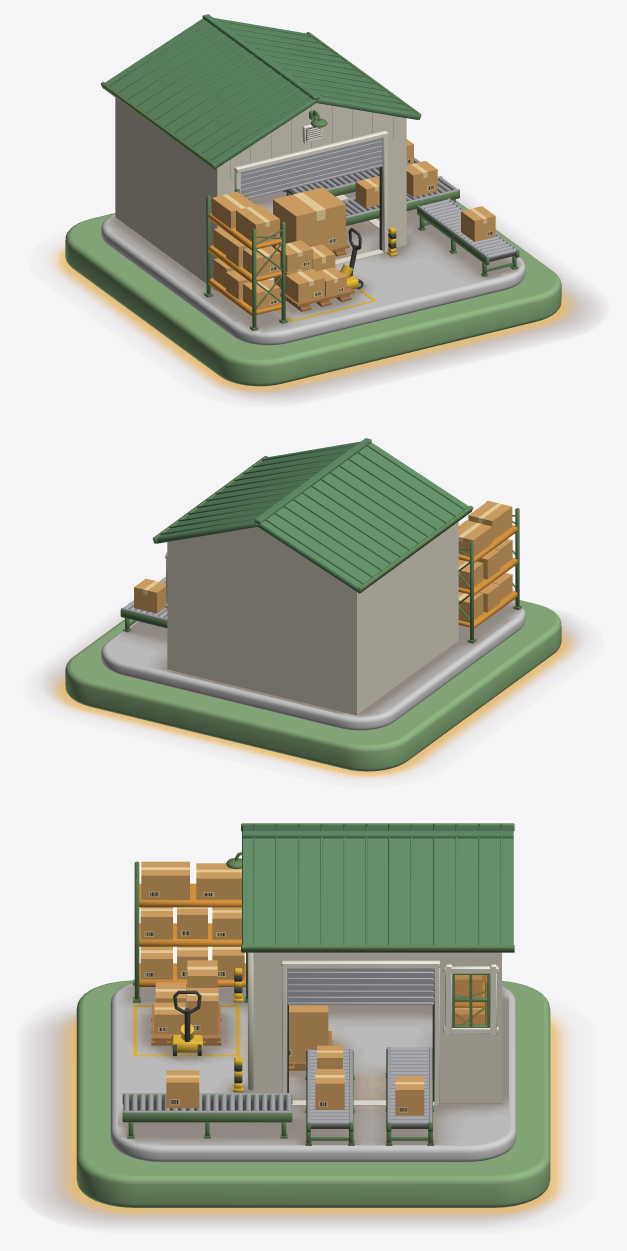
Rendered from warehouse.glb.
3 views of the same model, one above another, from view 1: azimuth 30°, elevation 25°; view 2: azimuth 150°, elevation 25°; view 3: azimuth 270°, elevation 25° (orthographic). The views are drawn at different scales.
Visible parts, largest first — view 1: Warehouse_Static, Plinth_Outer, Plinth_Inner, Fx_ContactShadow, Fx_AmbientOcclusion, Fx_FloorGlow, Conveyor_Box_1, Conveyor_Box_2; view 2: Warehouse_Static, Plinth_Outer, Plinth_Inner, Fx_FloorGlow, Fx_AmbientOcclusion, Fx_ContactShadow, Conveyor_Box_3; view 3: Warehouse_Static, Plinth_Inner, Plinth_Outer, Fx_ContactShadow, Fx_AmbientOcclusion, Fx_FloorGlow, Conveyor_Box_1, Conveyor_Box_2, Conveyor_Box_3.
Boxes of the visible parts, bbox=[...] form: Warehouse_Static: bbox=[101, 14, 519, 330]; Plinth_Outer: bbox=[65, 200, 561, 386]; Plinth_Inner: bbox=[101, 191, 525, 345]; Fx_ContactShadow: bbox=[74, 199, 598, 400]; Fx_AmbientOcclusion: bbox=[108, 191, 520, 331]; Fx_FloorGlow: bbox=[52, 245, 574, 392]; Conveyor_Box_1: bbox=[461, 206, 495, 241]; Conveyor_Box_2: bbox=[406, 161, 437, 197]; Warehouse_Static: bbox=[120, 438, 521, 715]; Plinth_Outer: bbox=[65, 599, 561, 771]; Plinth_Inner: bbox=[101, 600, 525, 730]; Fx_FloorGlow: bbox=[52, 630, 574, 777]; Fx_AmbientOcclusion: bbox=[122, 602, 523, 716]; Fx_ContactShadow: bbox=[43, 616, 581, 762]; Conveyor_Box_3: bbox=[134, 578, 165, 613]; Warehouse_Static: bbox=[122, 823, 514, 1145]; Plinth_Inner: bbox=[110, 983, 516, 1162]; Plinth_Outer: bbox=[76, 980, 550, 1207]; Fx_ContactShadow: bbox=[32, 1008, 546, 1225]; Fx_AmbientOcclusion: bbox=[118, 981, 508, 1144]; Fx_FloorGlow: bbox=[61, 1015, 565, 1215]; Conveyor_Box_1: bbox=[166, 1070, 199, 1108]; Conveyor_Box_2: bbox=[315, 1069, 344, 1109]; Conveyor_Box_3: bbox=[395, 1076, 424, 1115].
Size of the model in its own units: 5.82 by 2.81 by 5.82.
